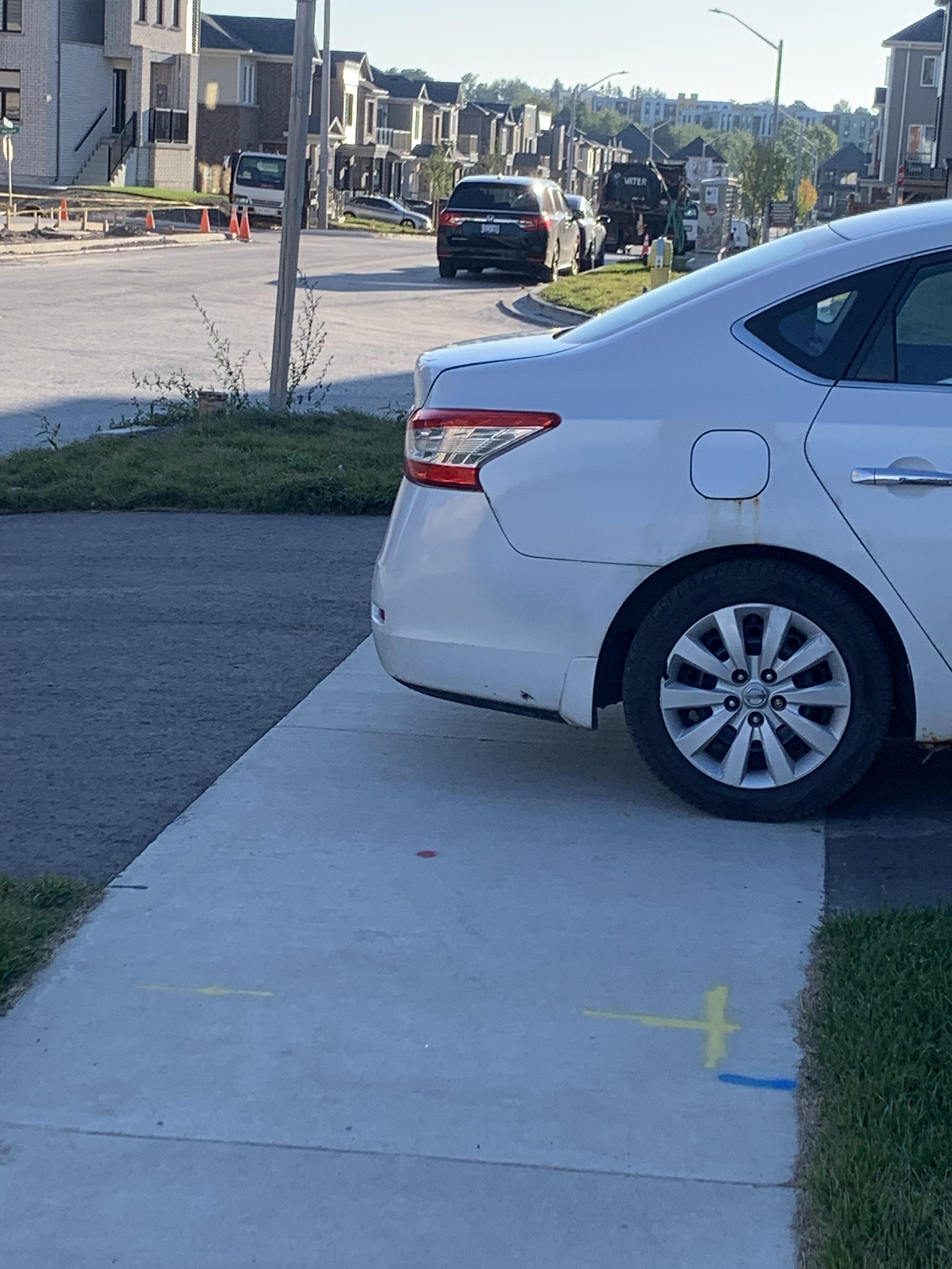Car: (388, 156, 952, 801), (423, 169, 589, 294)
